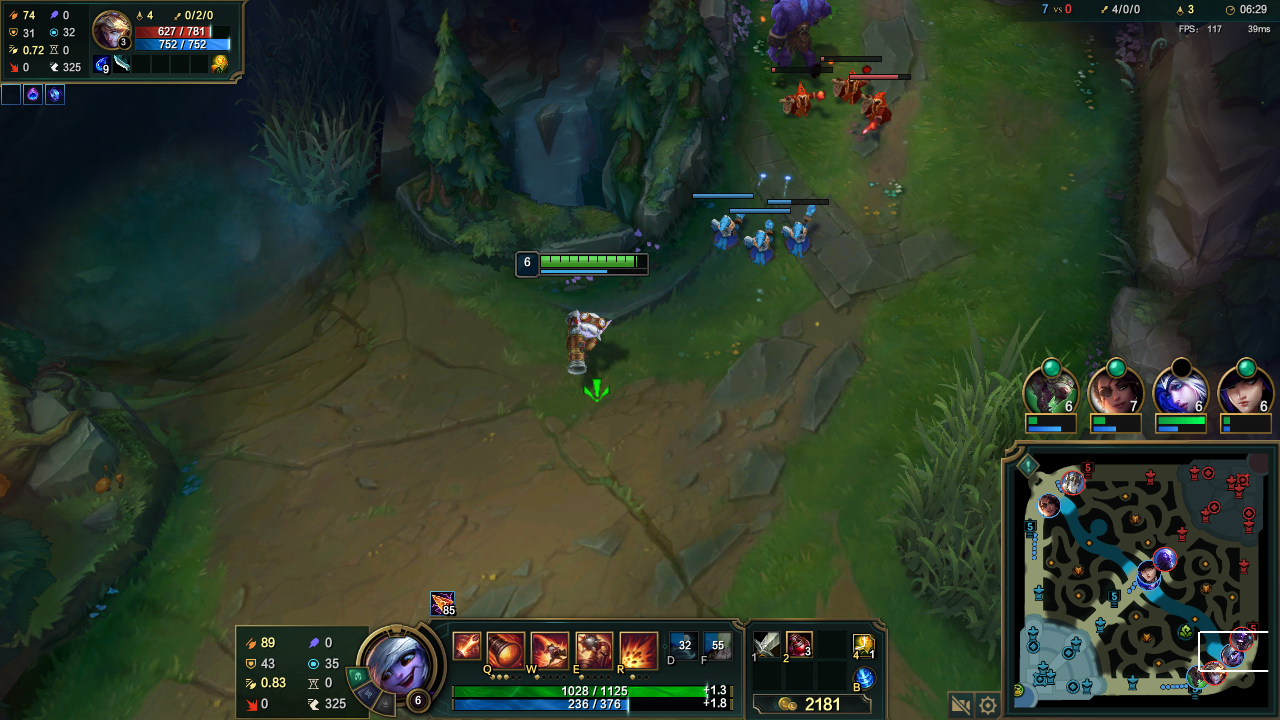DFXB: (857, 86, 903, 127), (781, 83, 829, 118), (834, 67, 869, 103)
WFXB: (781, 211, 834, 266), (703, 205, 749, 254), (741, 222, 783, 265)
